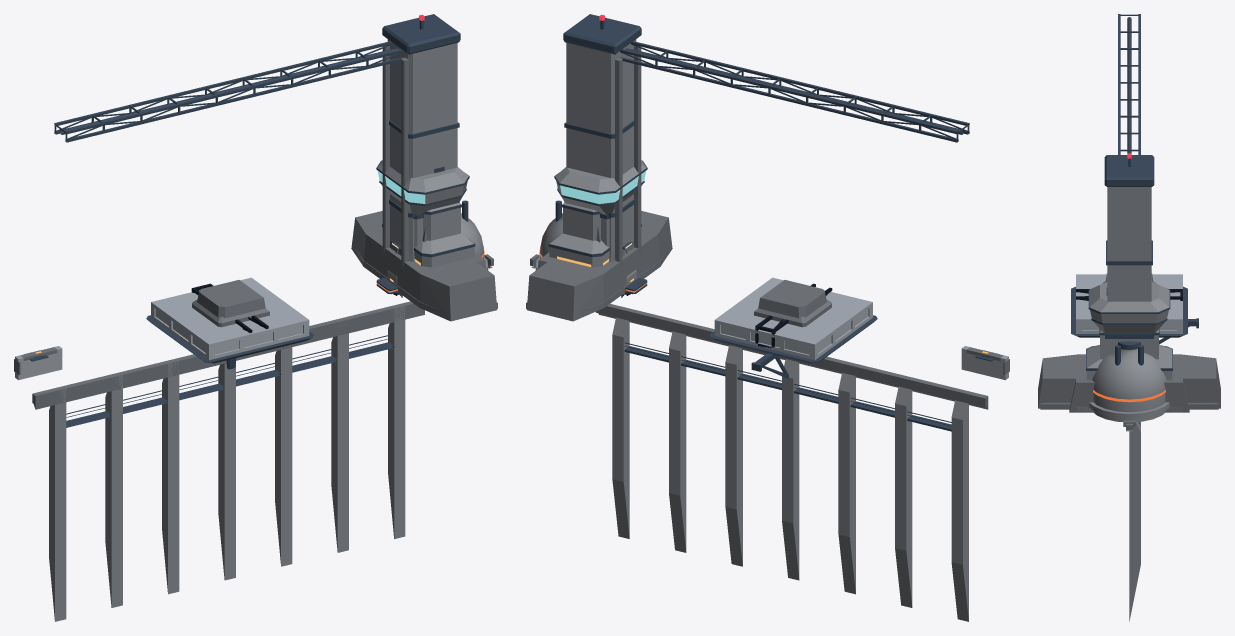
File: environment-kit.glb
3 views of the same model, side by side, from view 1: azimuth 30°, elevation 25°; view 2: azimuth 150°, elevation 25°; view 3: azimuth 270°, elevation 25° (orthographic). The views are drawn at different scales.
Visible parts, largest first — view 1: SE_Bulkhead__ribs, RS_GateHousing__pylon_body, RS_ReactorCore__podium, RS_GateHousing__truss, SP_Platform__deck, SE_Bulkhead__corbel, RS_GateHousing__pylon_cheeks, SE_Bulkhead__catwalk, IC_Keep__tiers, AF_Tower__cab, RS_GateHousing__pylon_crown, BA_Arena__pier_base (+4 smaller); view 2: SE_Bulkhead__ribs, RS_GateHousing__pylon_body, RS_ReactorCore__podium, RS_GateHousing__truss, SP_Platform__deck, SE_Bulkhead__corbel, RS_GateHousing__pylon_cheeks, SE_Bulkhead__catwalk, IC_Keep__tiers, RS_GateHousing__pylon_crown, AF_Tower__cab, BA_Arena__pier_base (+5 smaller); view 3: RS_GateHousing__pylon_body, RS_ReactorCore__dome, RS_ReactorCore__podium, AF_Tower__cab, SP_Platform__deck, SE_Bulkhead__ribs, IC_Keep__base, RS_GateHousing__pylon_crown, RS_GateHousing__truss, IC_Keep__tiers, SP_Platform__skirt, RS_GateHousing__manifold (+5 smaller).
Boxes of the visible parts, bbox=[...] form: SE_Bulkhead__ribs: bbox=[49, 306, 405, 621]; RS_GateHousing__pylon_body: bbox=[387, 39, 457, 254]; RS_ReactorCore__podium: bbox=[351, 211, 497, 321]; RS_GateHousing__truss: bbox=[54, 41, 403, 142]; SP_Platform__deck: bbox=[151, 277, 309, 360]; SE_Bulkhead__corbel: bbox=[32, 301, 424, 409]; RS_GateHousing__pylon_cheeks: bbox=[382, 46, 408, 269]; SE_Bulkhead__catwalk: bbox=[66, 335, 394, 427]; IC_Keep__tiers: bbox=[414, 203, 474, 267]; AF_Tower__cab: bbox=[377, 160, 468, 247]; RS_GateHousing__pylon_crown: bbox=[382, 14, 460, 54]; BA_Arena__pier_base: bbox=[197, 280, 265, 318]; SE_Bulkhead__ribs: bbox=[612, 317, 968, 621]; RS_GateHousing__pylon_body: bbox=[566, 39, 636, 254]; RS_ReactorCore__podium: bbox=[526, 211, 672, 321]; RS_GateHousing__truss: bbox=[620, 41, 969, 142]; SP_Platform__deck: bbox=[714, 277, 872, 360]; SE_Bulkhead__corbel: bbox=[595, 303, 988, 409]; RS_GateHousing__pylon_cheeks: bbox=[615, 46, 641, 269]; SE_Bulkhead__catwalk: bbox=[624, 342, 951, 431]; IC_Keep__tiers: bbox=[549, 203, 609, 267]; RS_GateHousing__pylon_crown: bbox=[563, 14, 641, 54]; AF_Tower__cab: bbox=[555, 160, 646, 247]; BA_Arena__pier_base: bbox=[758, 280, 826, 318]; RS_GateHousing__pylon_body: bbox=[1107, 187, 1151, 355]; RS_ReactorCore__dome: bbox=[1089, 348, 1169, 418]; RS_ReactorCore__podium: bbox=[1038, 354, 1220, 408]; AF_Tower__cab: bbox=[1089, 282, 1169, 356]; SP_Platform__deck: bbox=[1076, 274, 1182, 333]; SE_Bulkhead__ribs: bbox=[1129, 422, 1140, 621]; IC_Keep__base: bbox=[1069, 355, 1189, 412]; RS_GateHousing__pylon_crown: bbox=[1104, 155, 1154, 186]; RS_GateHousing__truss: bbox=[1118, 14, 1140, 154]; IC_Keep__tiers: bbox=[1086, 329, 1172, 380]; SP_Platform__skirt: bbox=[1071, 286, 1187, 337]; RS_GateHousing__manifold: bbox=[1127, 17, 1131, 153].
Size of the model in its own units: 75.5 by 78.6 by 27.4.
